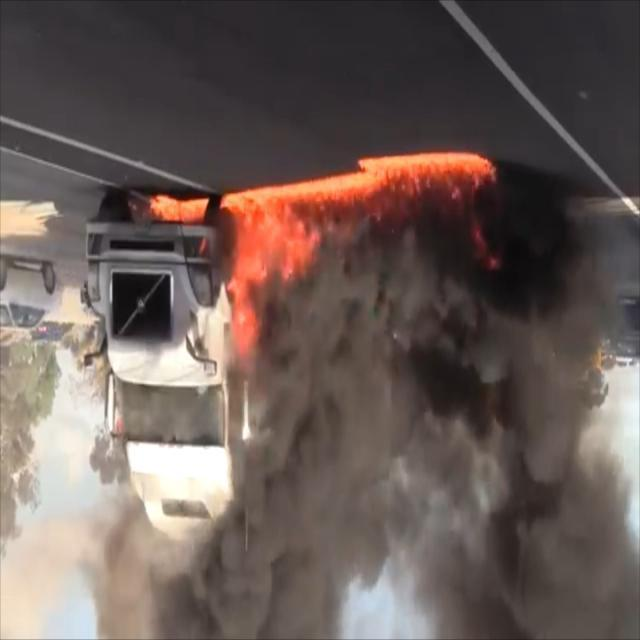fire: (121, 133, 506, 348)
